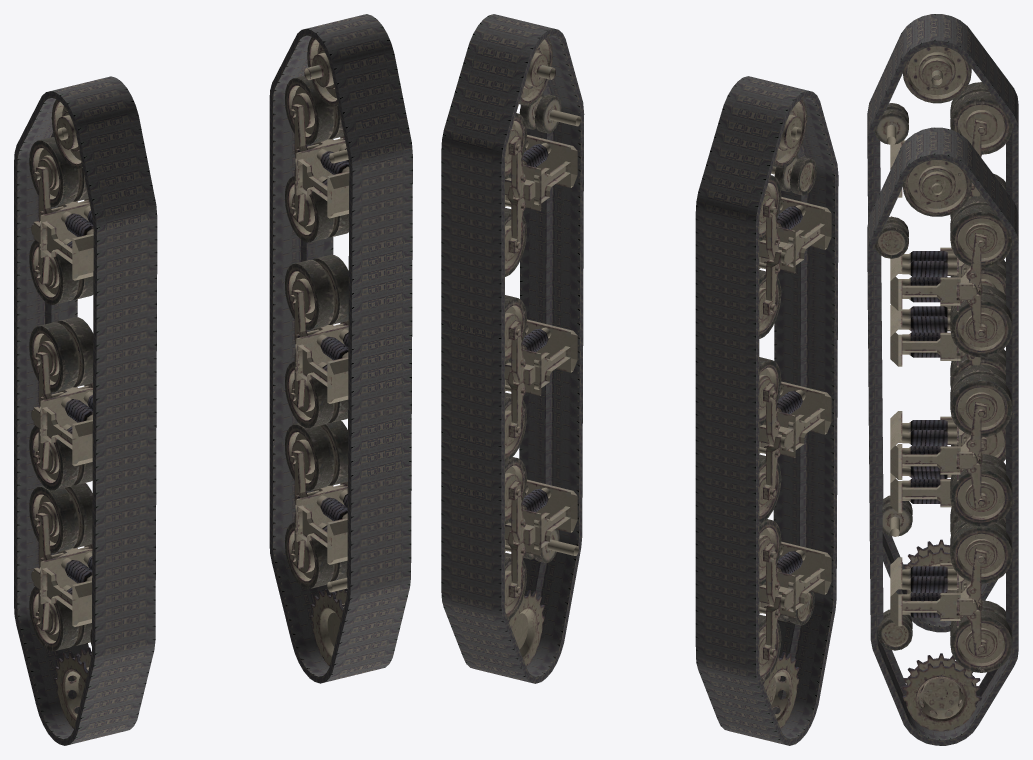
The model's file is Chassis.glb.
3 views of the same model, side by side, from view 1: azimuth 30°, elevation 25°; view 2: azimuth 150°, elevation 25°; view 3: azimuth 270°, elevation 25° (orthographic). The views are drawn at different scales.
Parts seen in each view (by area): view 1: set_1_group_0, set_0_group_0, set_2_group_0, set_3_group_0; view 2: set_0_group_0, set_1_group_0, set_3_group_0, set_2_group_0; view 3: set_3_group_0, set_1_group_0, set_2_group_0, set_0_group_0.
Part boxes in pixels (left/top/right/bottom): set_1_group_0: left=269, top=14, right=412, bottom=683; set_0_group_0: left=14, top=76, right=157, bottom=745; set_2_group_0: left=29, top=99, right=93, bottom=728; set_3_group_0: left=285, top=37, right=349, bottom=665; set_0_group_0: left=695, top=76, right=838, bottom=745; set_1_group_0: left=441, top=14, right=584, bottom=683; set_3_group_0: left=505, top=36, right=580, bottom=666; set_2_group_0: left=759, top=98, right=831, bottom=728; set_3_group_0: left=875, top=160, right=1012, bottom=731; set_1_group_0: left=867, top=127, right=1018, bottom=745; set_2_group_0: left=875, top=46, right=1011, bottom=594; set_0_group_0: left=867, top=14, right=1018, bottom=632.
Bounding box in the file's own units: 3.27 × 6.18 × 1.43.
Materials: 4 (4 with a texture image).
